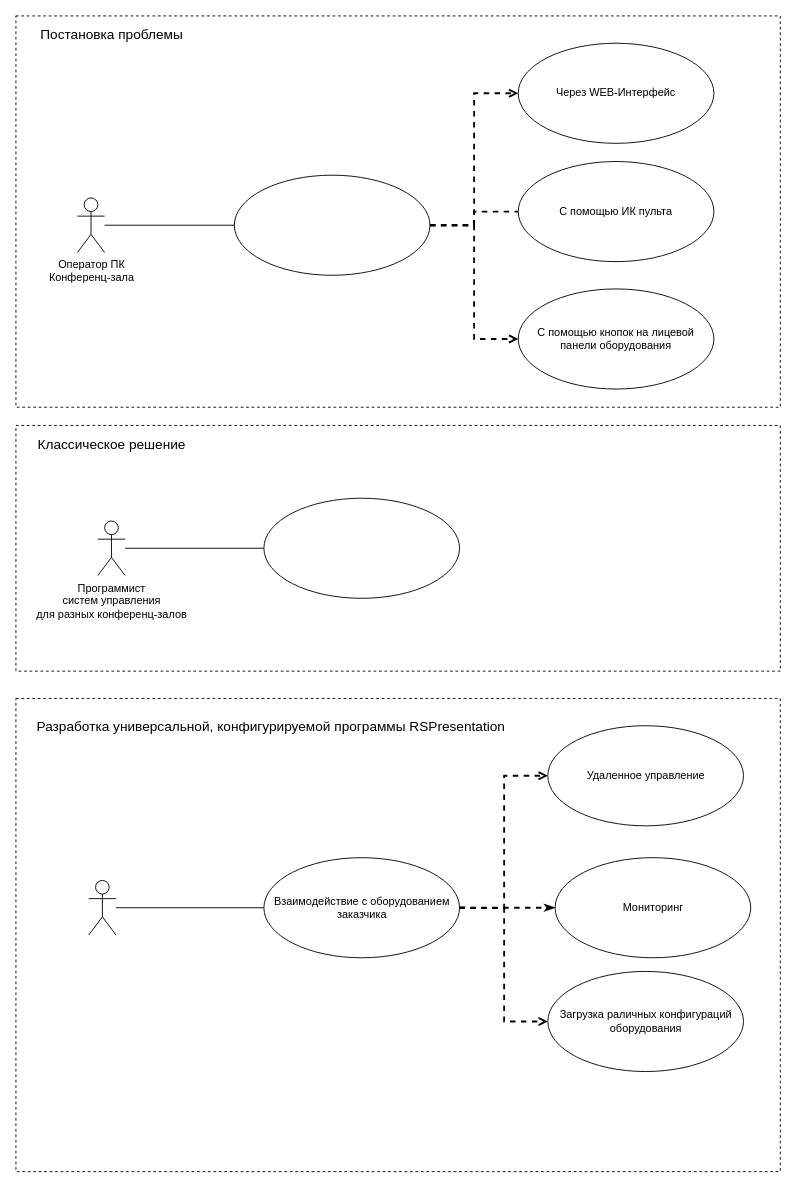
This 796x1188 diagram has some shape labels left out. The centre of each missing label's shape, as x and y in pixels:
"Написание программы для управления всем оборудованием с одного инфтерфейса" goes at [361,547].
"Универсальная программа-плеер" goes at [102,907].
"Управление мультимедиа комплексом" goes at [331,224].
